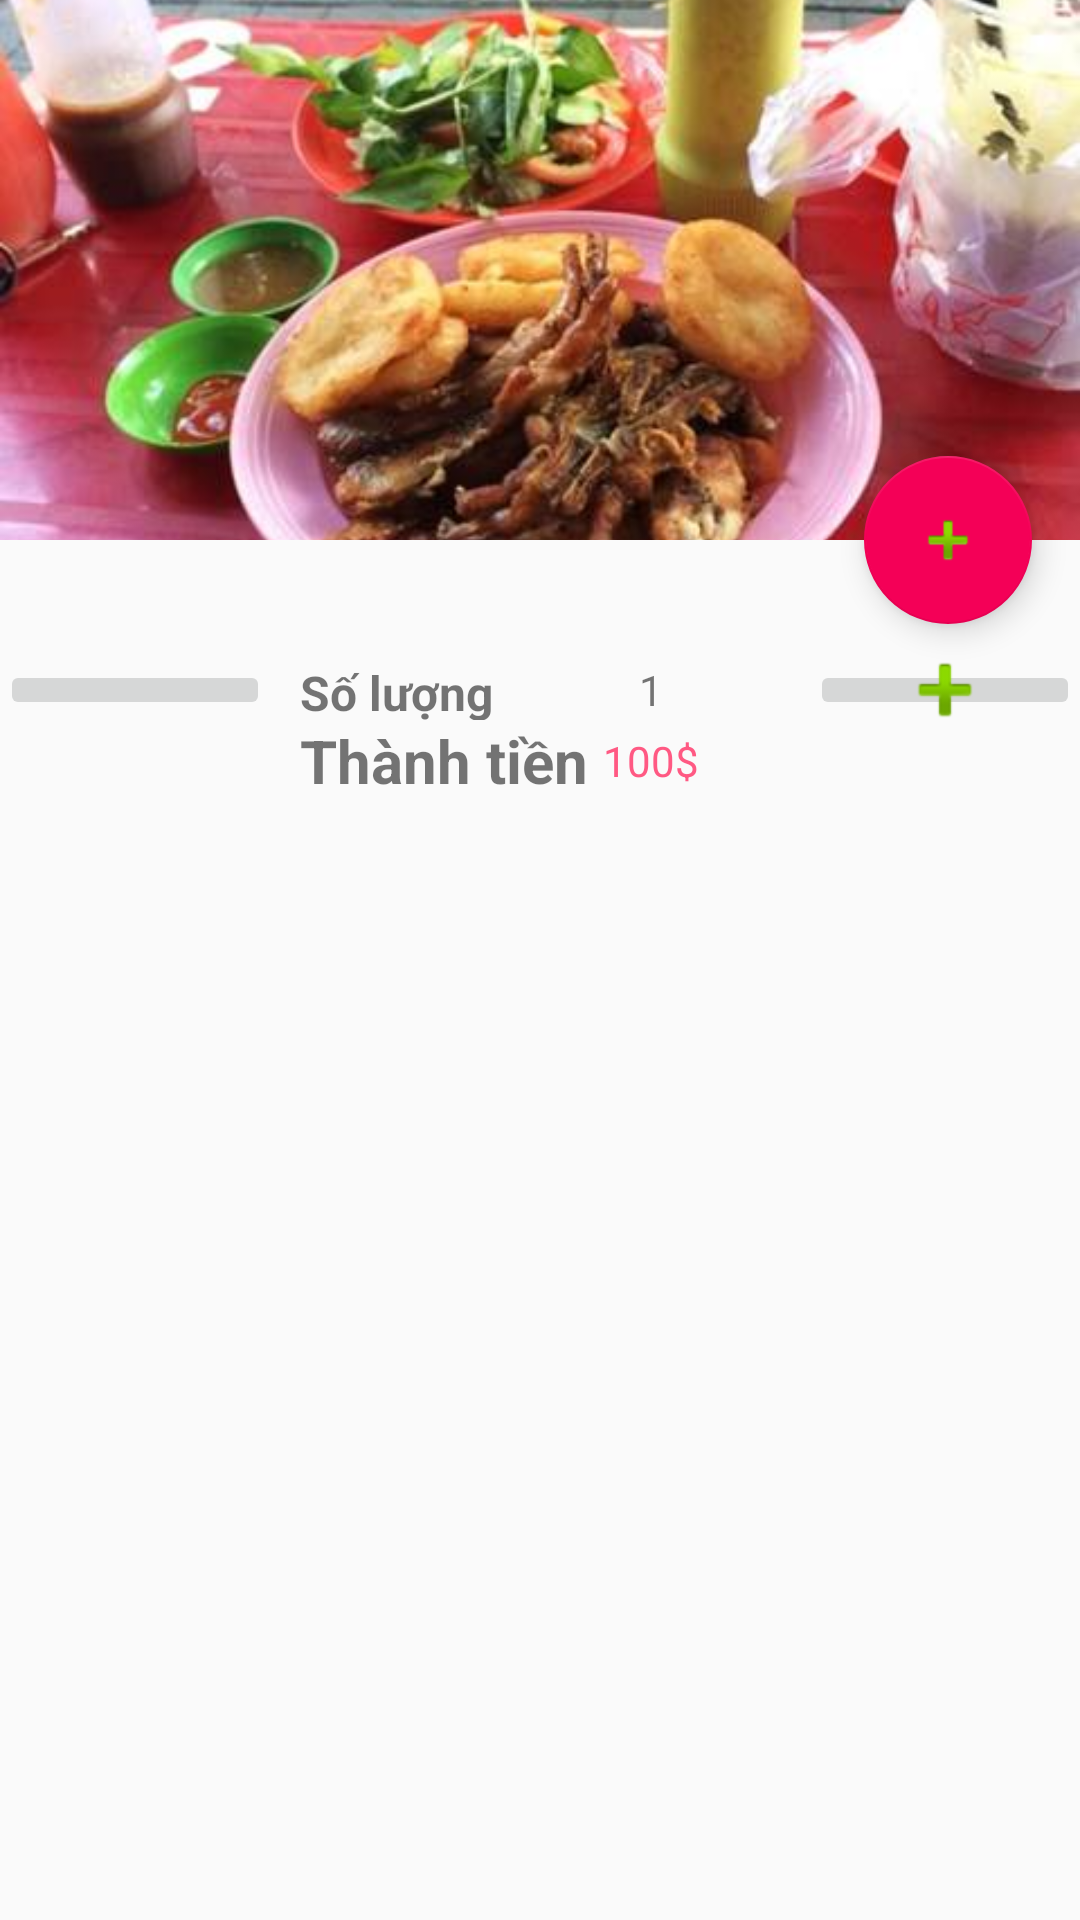

Screen size 1080px x 1920px. Icon name, then its center in pixels as point (x, y):
add: point (948, 540), point (945, 690)
